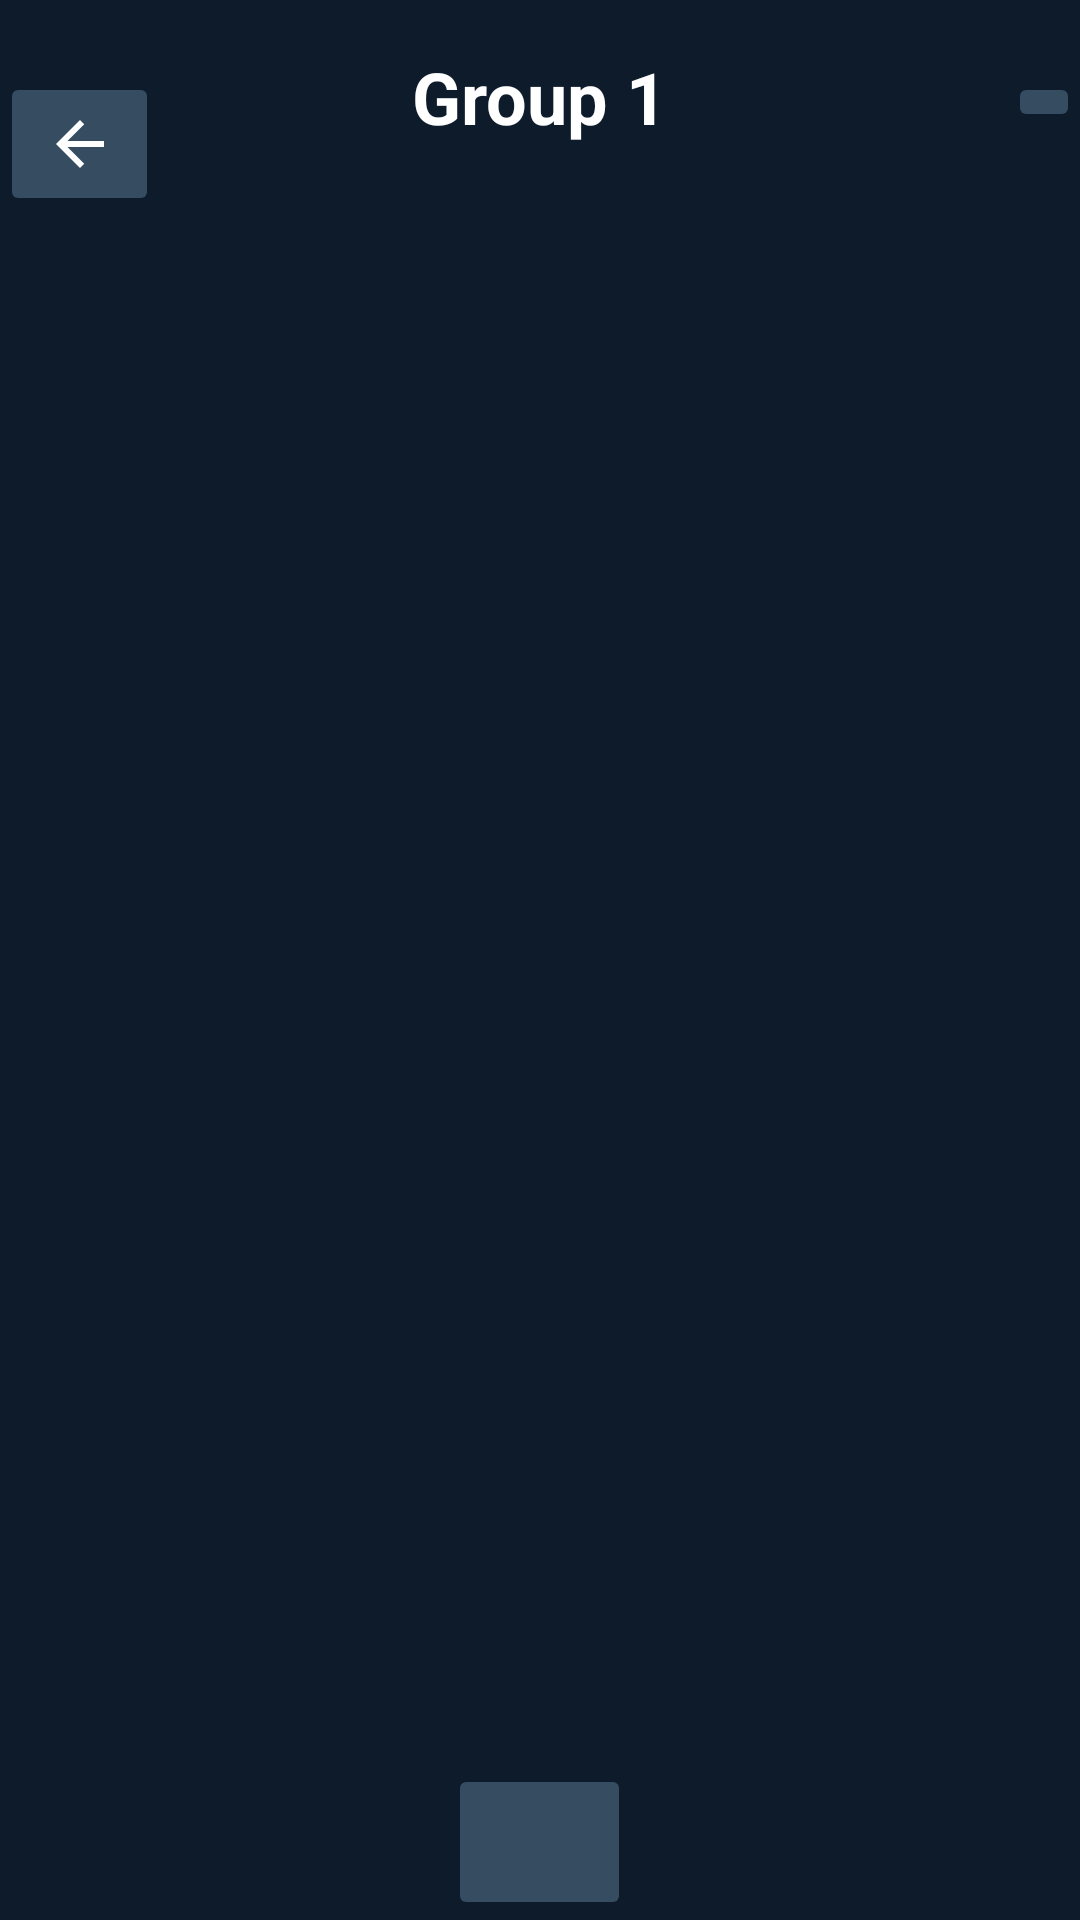

Icon bounding boxes for this 1080x1920 phone screenshot, format (x1, y1, x2, y2):
back arrow: (12, 90, 147, 198)
